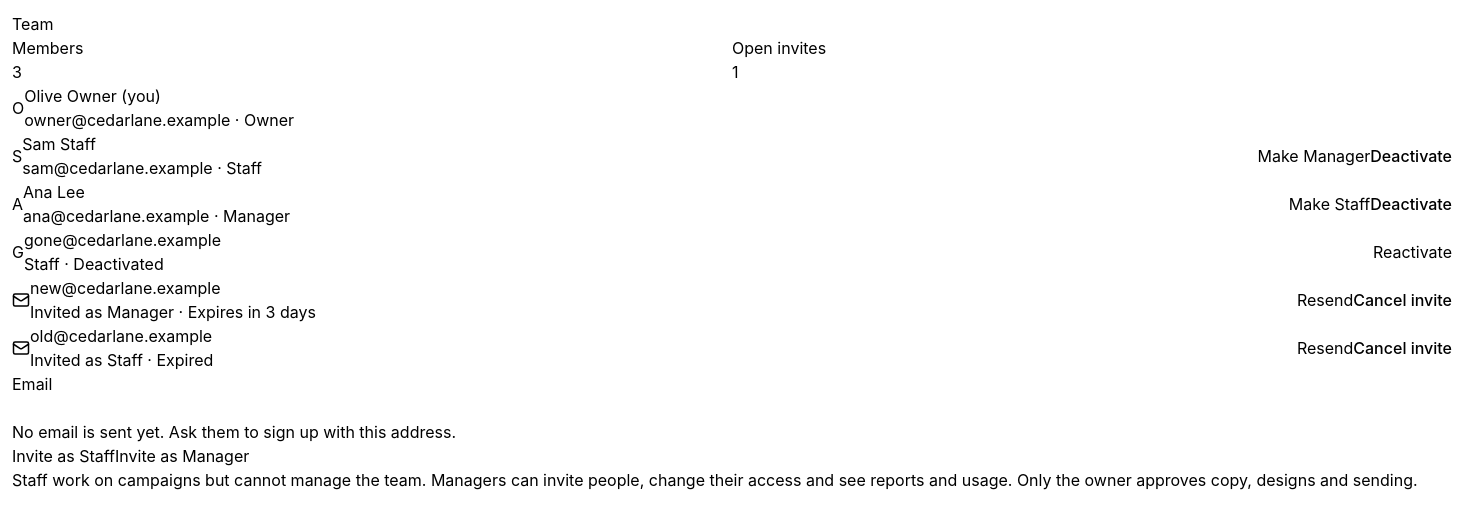
Test case: Team card on Settings (UI-SETb) › deactivates and reactivates only after the confirm
The width and height of the screenshot is (1464, 531).
No sends nothing.
Click the button with aria-label "Deactivate: Sam Staff": (1411, 156) [1370, 144, 1452, 168]
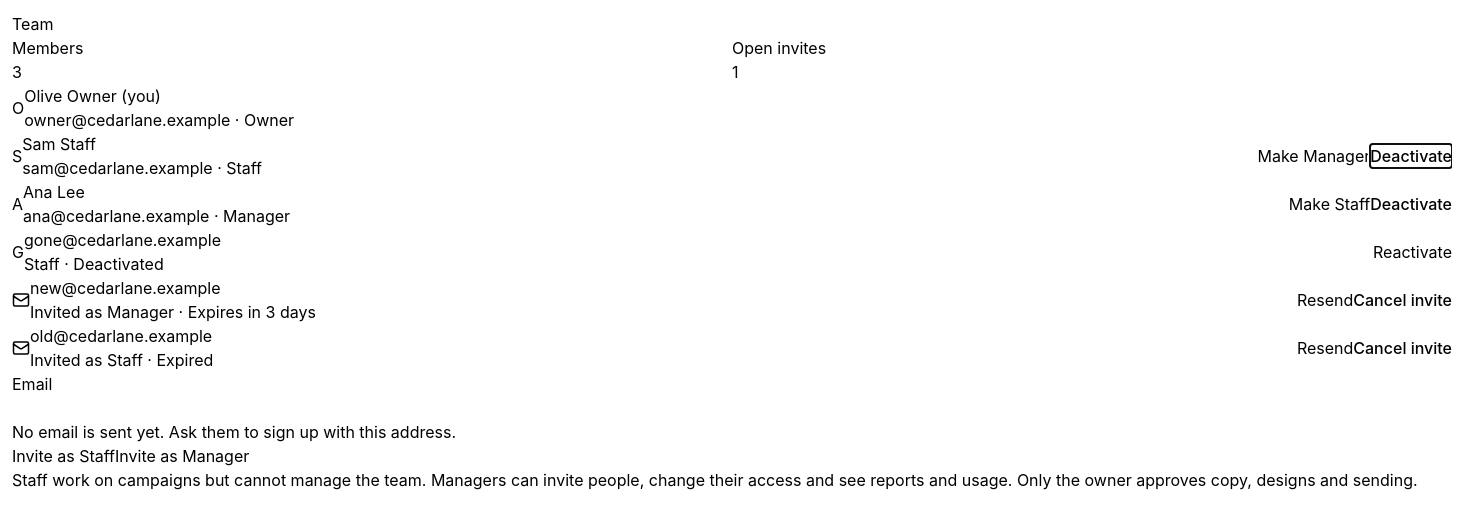
Click the button with aria-label "Deactivate: Sam Staff": (1411, 156) [1370, 144, 1452, 168]
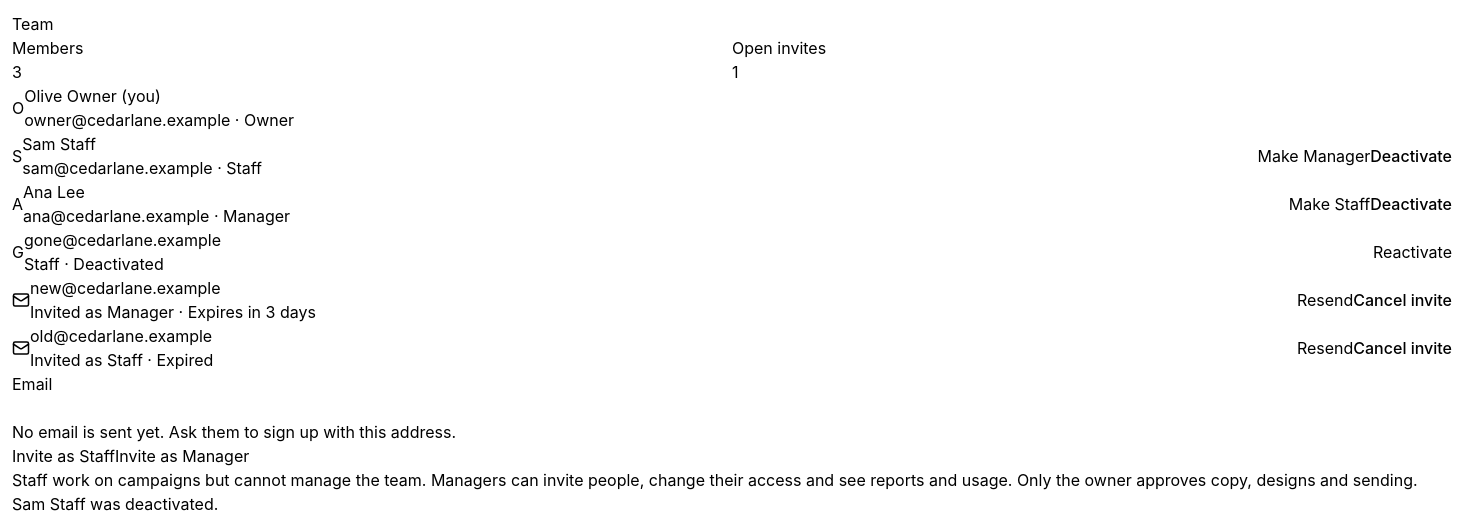
Expected: the text "Sam Staff was deactivated." is shown, [12, 494, 218, 514]
Click the button with aria-label "Reactivate: gone@cedarlane.example": (1412, 252) [1373, 240, 1452, 264]
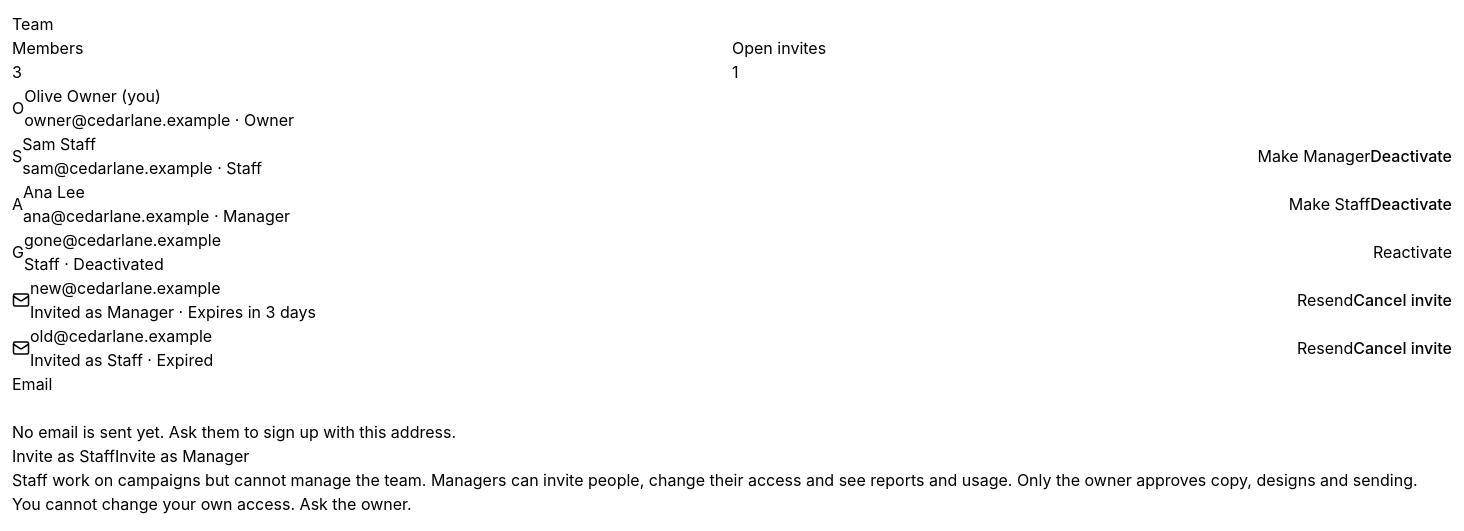
Expected: the text "You cannot change your own access. Ask the owner." is shown, [12, 494, 412, 514]
